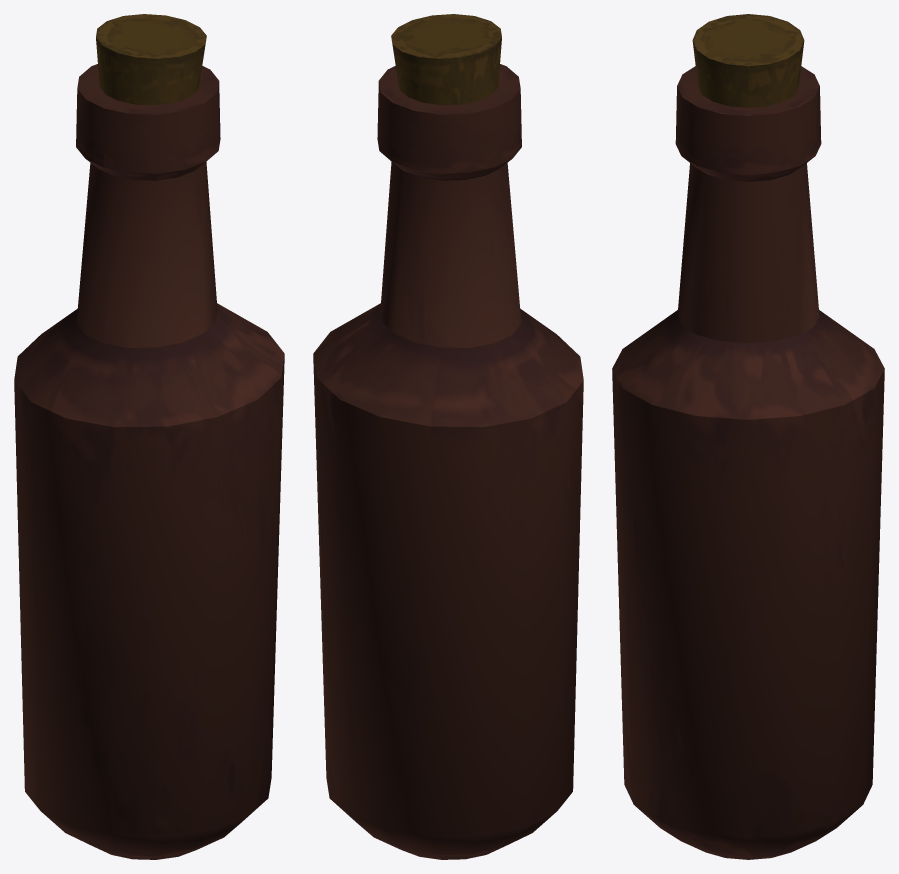
File: bottle_1.gltf
3 views of the same model, side by side, from view 1: azimuth 30°, elevation 25°; view 2: azimuth 150°, elevation 25°; view 3: azimuth 270°, elevation 25° (orthographic).
Parts seen in each view (by area): view 1: Bottle_1; view 2: Bottle_1; view 3: Bottle_1.
Part boxes in pixels (<box>): Bottle_1: <box>14,14,284,859</box>; Bottle_1: <box>313,14,583,859</box>; Bottle_1: <box>612,14,884,859</box>.
Bounding box in the file's own units: 0.1127 × 0.3647 × 0.1129.
Materials: 1 (1 with a texture image).
